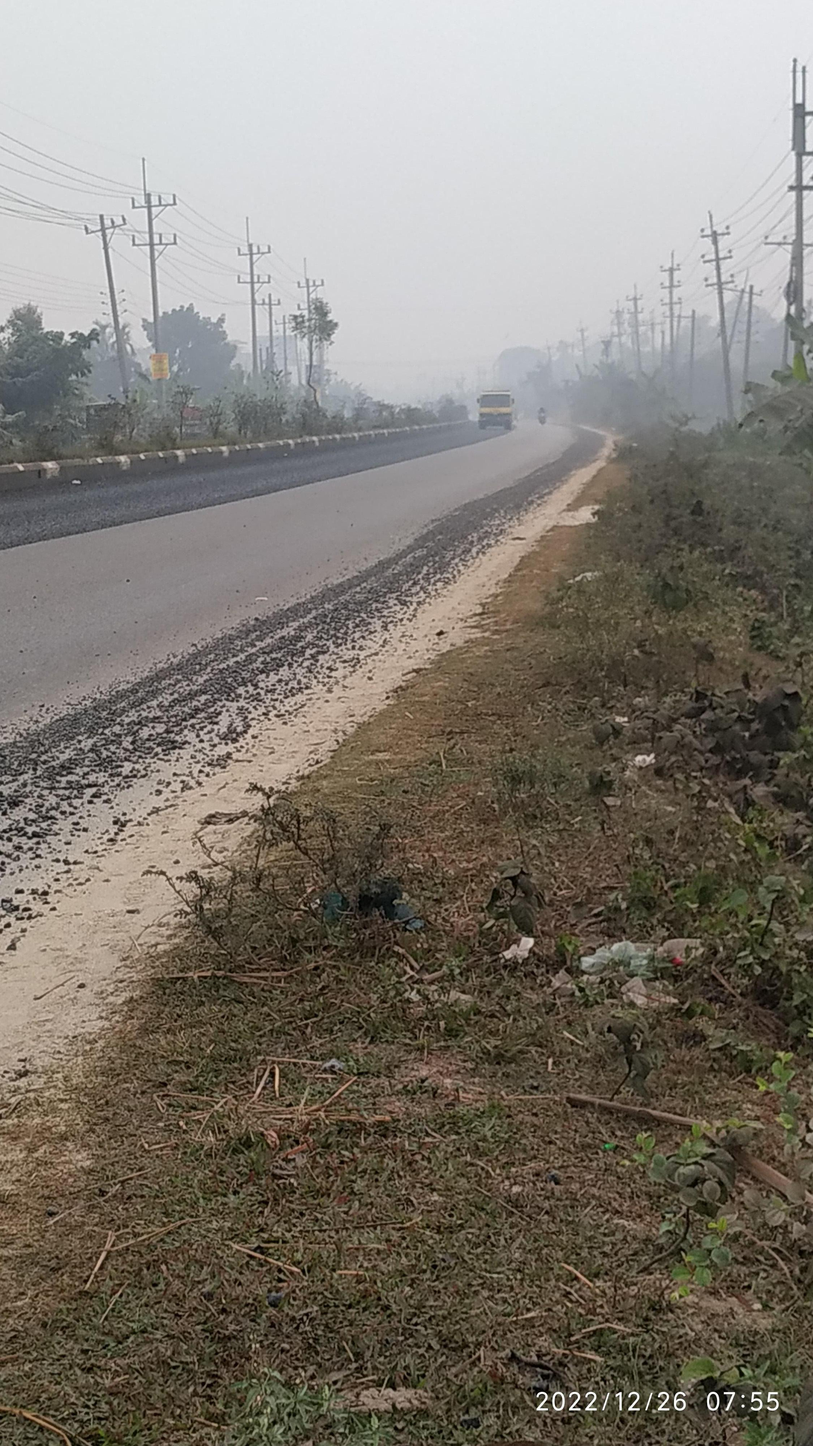Bike: (527, 398, 562, 438)
Truck: (464, 382, 527, 452)
